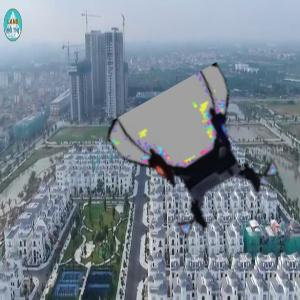drone: (126, 84, 274, 232)
